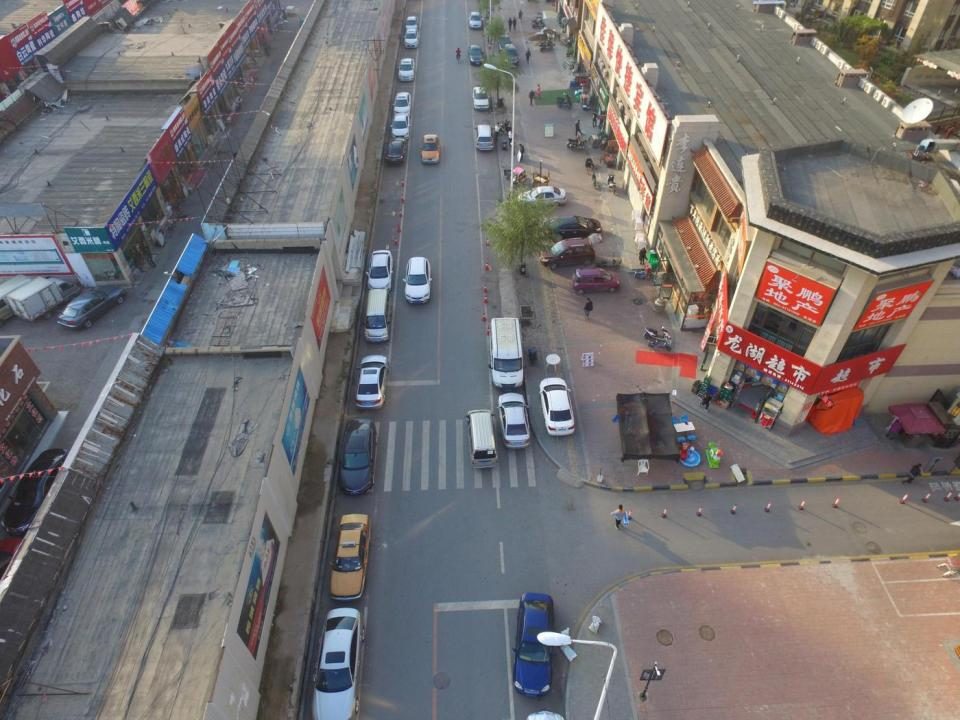car: (308, 606, 367, 720), (1, 448, 72, 537), (511, 591, 557, 698), (327, 512, 373, 603), (55, 282, 127, 330), (336, 416, 378, 497), (538, 376, 575, 437), (538, 235, 597, 271), (353, 354, 390, 411), (496, 392, 531, 451), (541, 214, 603, 242), (402, 255, 432, 305), (570, 267, 621, 296), (364, 249, 393, 293), (516, 185, 568, 209), (419, 133, 441, 165), (384, 136, 406, 165), (390, 111, 411, 140), (392, 91, 412, 117), (471, 85, 490, 112), (501, 43, 520, 69), (397, 57, 416, 82), (467, 43, 486, 67), (496, 31, 512, 53), (403, 28, 419, 49), (467, 10, 483, 30), (404, 15, 419, 30)
van: (487, 317, 525, 392), (464, 408, 500, 470), (361, 288, 391, 344), (472, 122, 496, 152)
